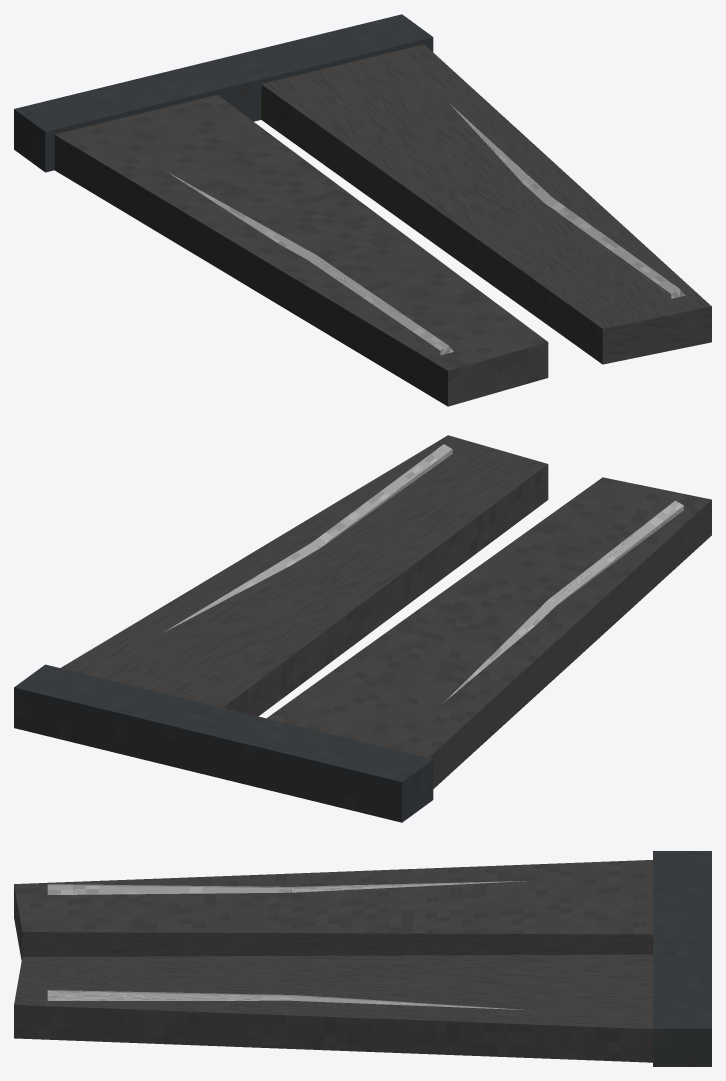
File: chaps_cut_resistant.glb
The picture shows the model from 3 angles, top to bottom: view 1: azimuth 30°, elevation 25°; view 2: azimuth 150°, elevation 25°; view 3: azimuth 270°, elevation 25°; orthographic projection. The views are drawn at different scales.
Parts seen in each view (by area): view 1: block_leg panel (×2), block_waist belt, block_leg closure 1 (×2), block_leg closure 0 (×2); view 2: block_leg panel (×2), block_waist belt, block_leg closure 1 (×2), block_leg closure 0 (×2); view 3: block_leg panel (×2), block_waist belt, block_leg closure 1 (×2), block_leg closure 0 (×2).
Part boxes in pixels (box(x1,y1,x2,y2)): block_leg panel (×2): box(54, 44, 711, 406); block_waist belt: box(14, 14, 433, 172); block_leg closure 1 (×2): box(308, 197, 685, 355); block_leg closure 0 (×2): box(168, 103, 552, 260); block_leg panel (×2): box(60, 435, 711, 788); block_waist belt: box(14, 664, 433, 822); block_leg closure 1 (×2): box(312, 444, 683, 605); block_leg closure 0 (×2): box(161, 542, 556, 702); block_leg panel (×2): box(14, 860, 652, 1062); block_waist belt: box(653, 851, 711, 1066); block_leg closure 1 (×2): box(47, 884, 291, 1000); block_leg closure 0 (×2): box(291, 881, 528, 1010).
Bounding box in the file's own units: 0.3193 × 0.0342 × 0.53.
1 material, 1 textured.
